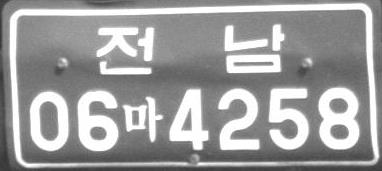0: (29, 89, 69, 151)
2: (216, 87, 261, 151)
4: (168, 87, 209, 150)
5: (267, 87, 311, 150)
6: (76, 88, 119, 151)
8: (317, 86, 360, 150)
마: (121, 95, 164, 143)
전남_D: (95, 24, 285, 75)
